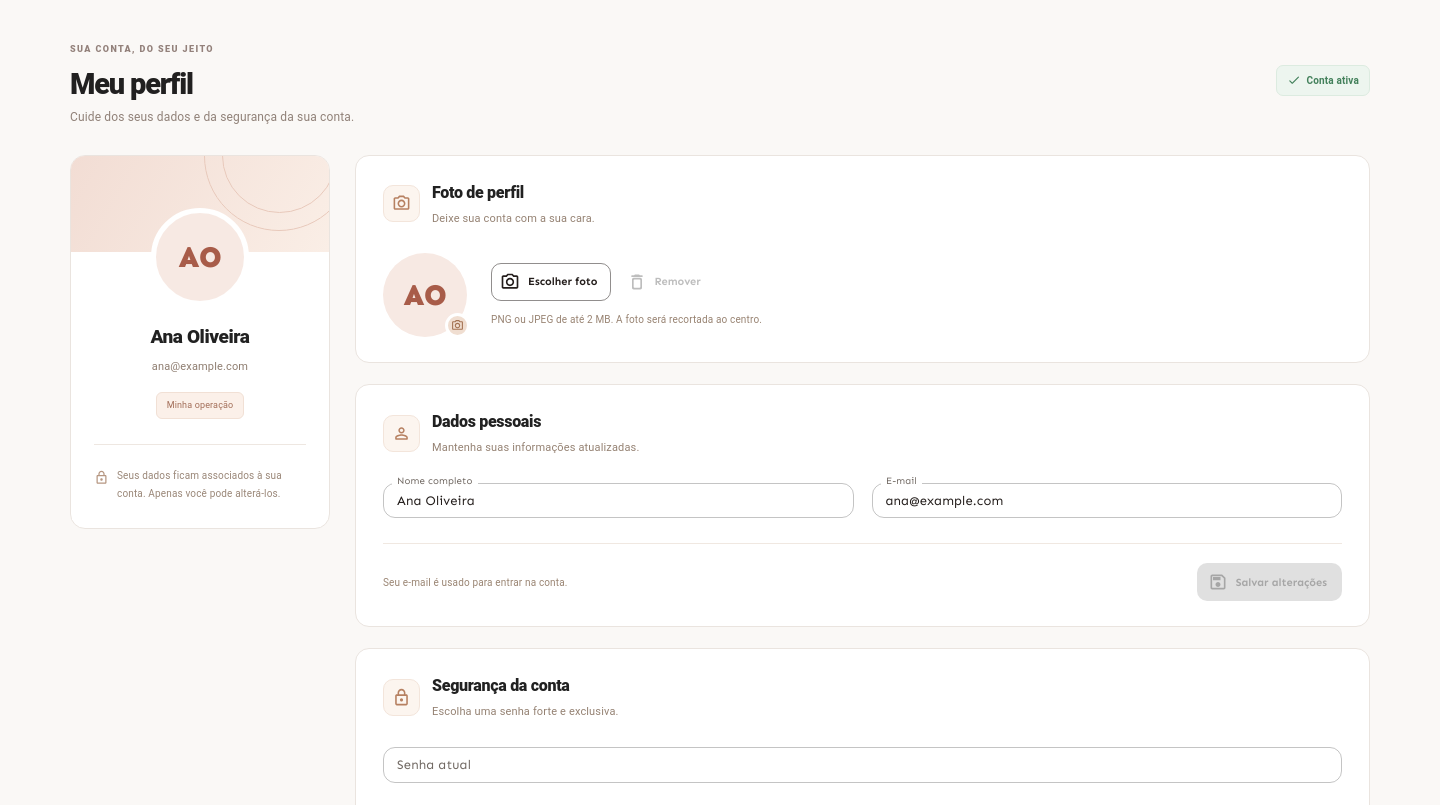
it: perfil › salva dados com a versão atual e atualiza o usuário da aplicação
The image size is (1440, 805).
Replace the text in the field labelled "Nome completo" with "Ana Santos". click: (618, 501)
box: x1=383 y1=483 x2=854 y2=518
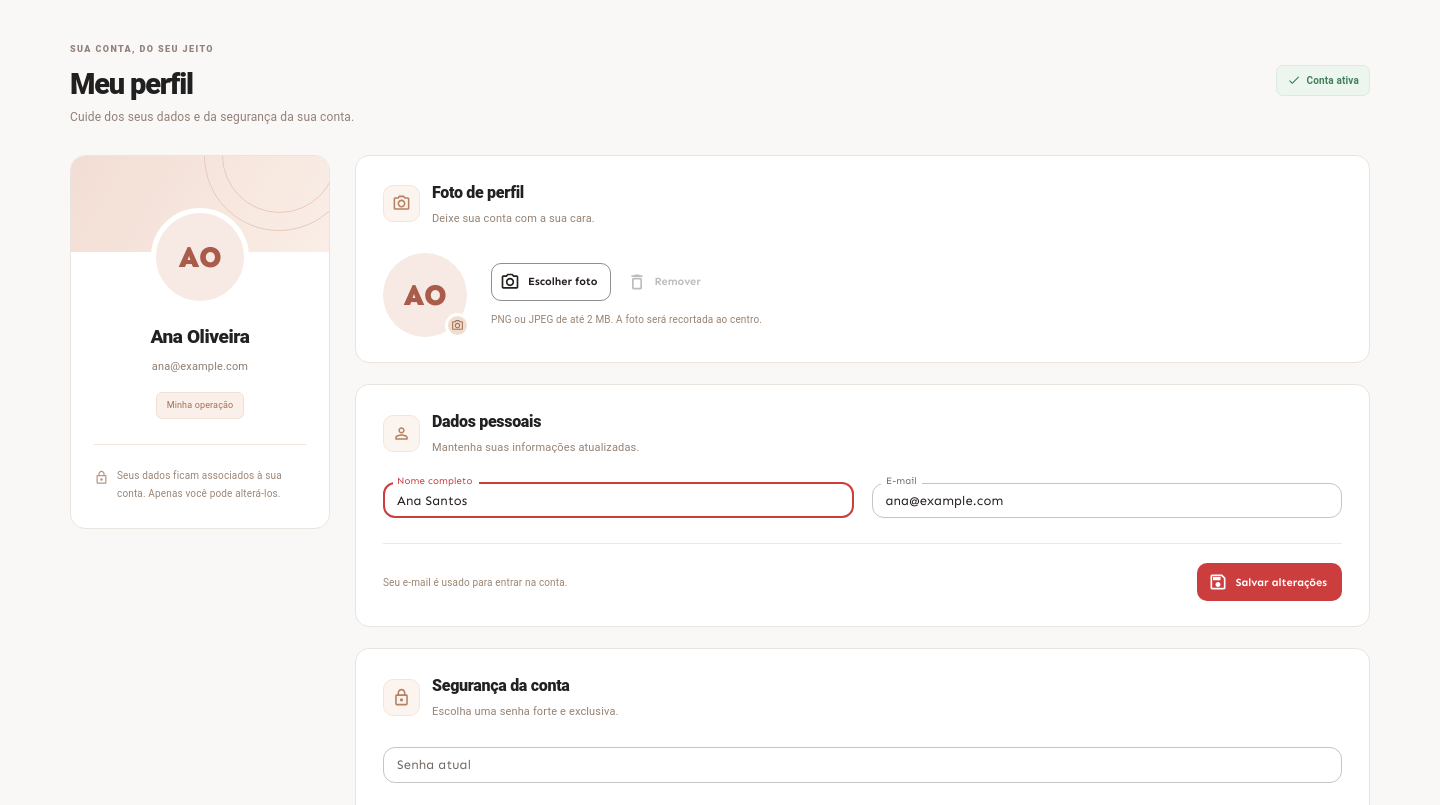
Click the button "Salvar alterações". click: (1269, 582)
box: x1=1197 y1=564 x2=1342 y2=602
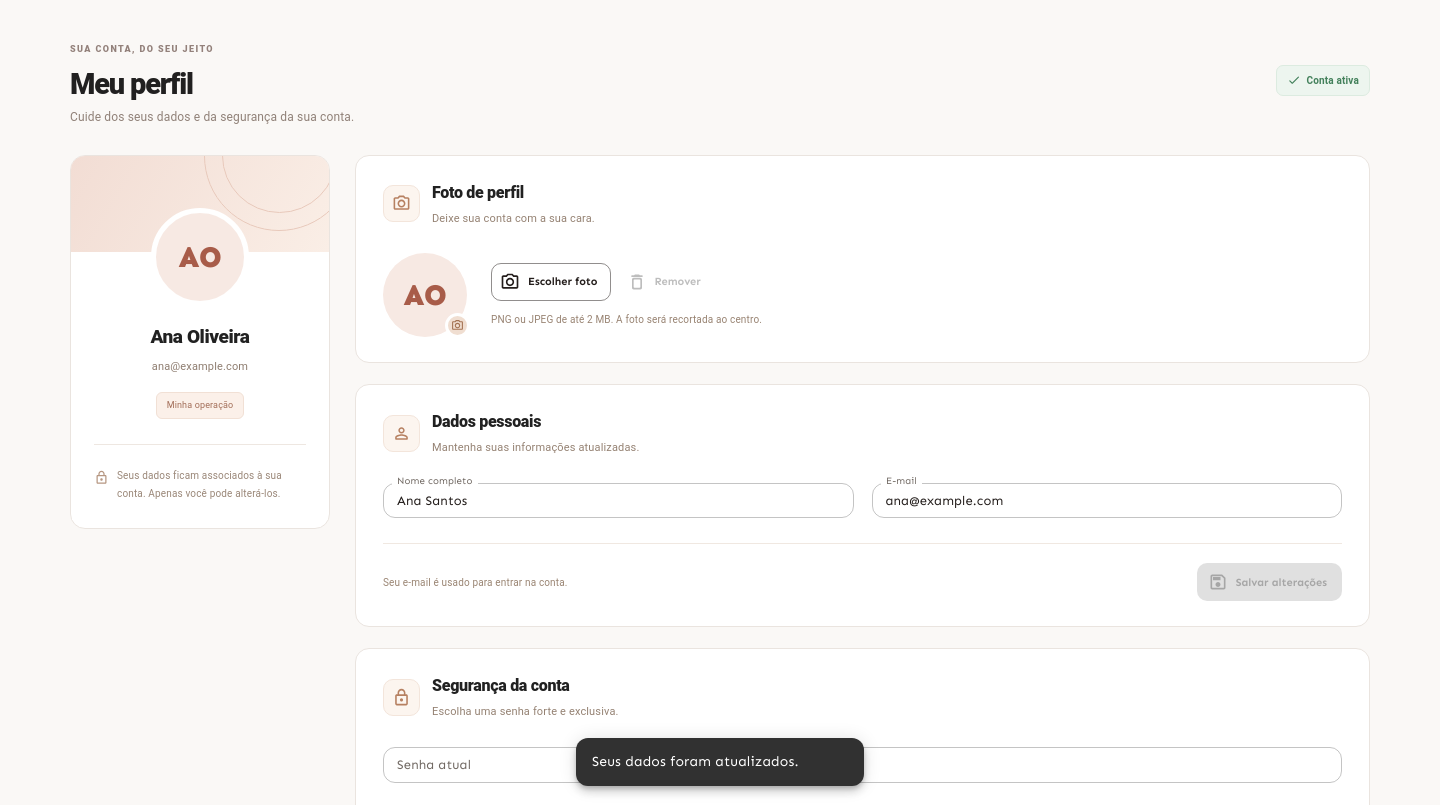
Expected: the button "Salvar alterações" is disabled, x1=1197 y1=564 x2=1342 y2=602
